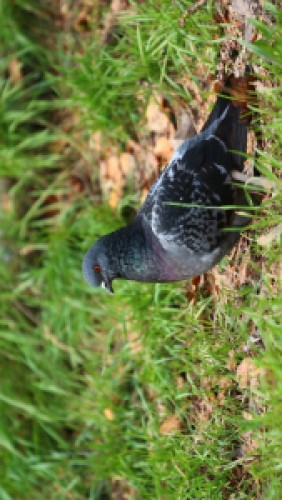pigeon: (78, 54, 261, 293)
